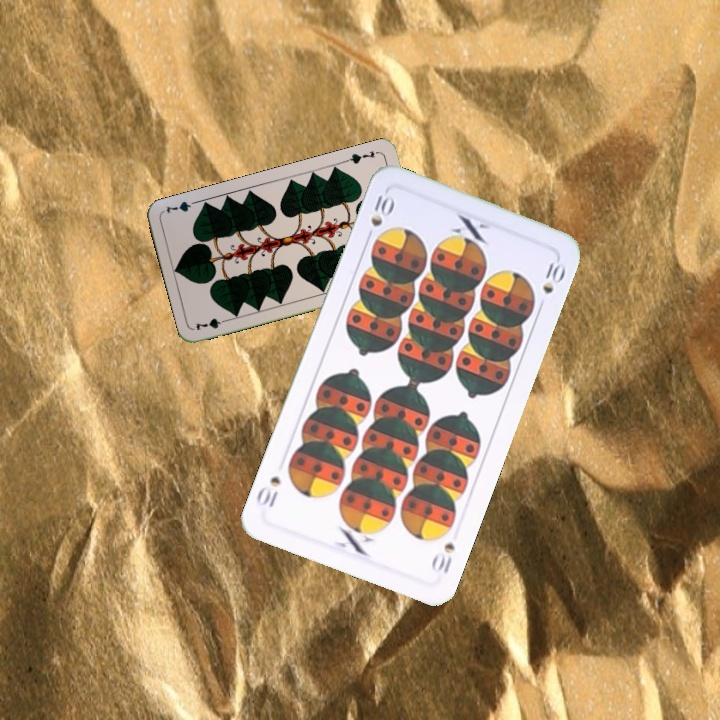G7: (191, 314, 232, 333), (342, 147, 382, 166)
S10: (361, 188, 396, 244), (427, 538, 457, 577)
